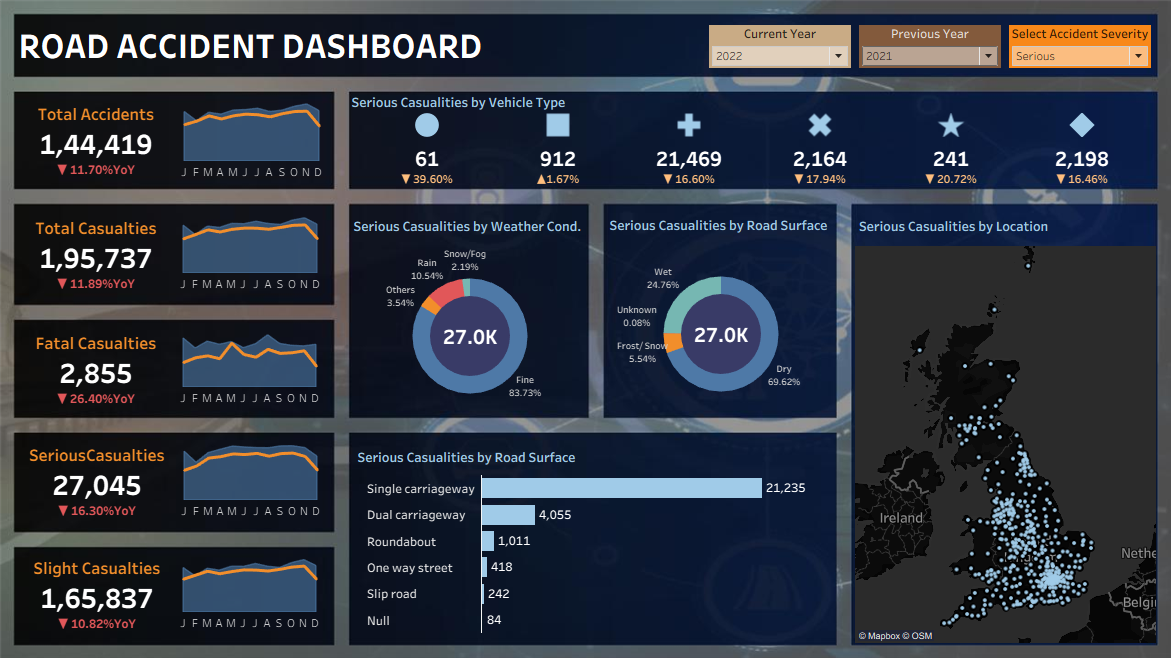

This screenshot's page, from the dashboard's own definition file:
{"tool":"tableau","page":{"name":"Dashboard 1","canvas":[1000,1000],"units":"permille","ordinal":0},"visuals":[{"type":"image","param":"Image/Background.jpg","box":[6.9,13.7,986.1,972.6]},{"type":"text","box":[82.2,36,411.3,92.5]},{"type":"parameter","param":"[Parameters].[Parameter 1]","box":[524.7,49.7,121.2,73.6]},{"type":"parameter","param":"[Parameters].[Current Year (copy)_0271580987891713]","box":[645.9,49.7,138.5,73.6]},{"type":"parameter","param":"[Parameters].[Parameter 2]","box":[784.4,49.7,129,73.6]},{"type":"text","box":[325.5,133.6,316,65.1]},{"type":"worksheet","title":"Total Accident","mark":"Automatic","box":[83.1,159.2,114.3,128.4]},{"type":"worksheet","title":"Accident Sparkline","mark":"Automatic","rows":["Calculation_1236402777866240 1","Calculation_1236402777866240"],"cols":["Accident Date"],"box":[197.4,159.2,113.4,128.4]},{"type":"worksheet","title":"Vehicle type Images","mark":"Shape","box":[331.6,176.4,581,54.8]},{"type":"worksheet","title":"Vehicle type KPI","mark":"Automatic","box":[331.6,231.2,581,65.1]},{"type":"text","box":[514.3,313.4,322.1,65.1]},{"type":"text","box":[327.3,316.8,180.1,59.9]},{"type":"worksheet","title":"By Location","mark":"Automatic","rows":["Latitude"],"cols":["Longitude"],"box":[693.5,323.6,226,640.4]},{"type":"worksheet","title":"Total Casualties","mark":"Automatic","box":[84,325.3,113.4,128.4]},{"type":"worksheet","title":"Total Casualties Sparkline ","mark":"Automatic","rows":["Calculation_1236402793963522 1","Calculation_1236402793963522"],"cols":["Accident Date"],"box":[197.4,325.3,112.6,128.4]},{"type":"worksheet","title":"Road Surface","mark":"Pie","rows":["Calculation_0959879000317953","Calculation_0959879000449027"],"box":[518.6,349.3,159.3,313.4]},{"type":"worksheet","title":"Weather Cond.","mark":"Pie","rows":["Calculation_0959879000317953","Calculation_0959879000449027"],"box":[331.6,352.7,165.4,313.4]},{"type":"worksheet","title":"Fatal Casualties","mark":"Automatic","box":[84,496.6,112.6,121.6]},{"type":"worksheet","title":"Fatal Sparkline","mark":"Automatic","rows":["Calculation_0753442484621312 1","Calculation_0753442484621312"],"cols":["Accident Date"],"box":[196.5,496.6,112.5,121.6]},{"type":"text","box":[329.9,652.4,322.1,65.1]},{"type":"worksheet","title":"Serious Casualties","mark":"Automatic","box":[84.9,659.2,112.5,125]},{"type":"worksheet","title":"Serious Sparkline","mark":"Automatic","rows":["CY Serious Casualties (copy)_0753442511335427","CY Fatal Casualties (copy)_0753442498224130"],"cols":["Accident Date"],"box":[197.4,659.2,112.6,125]},{"type":"worksheet","title":"Road Type","mark":"Automatic","rows":["Road_Type"],"cols":["Calculation_1236402793963522"],"box":[331.6,705.5,344.6,243.1]},{"type":"worksheet","title":"Slight Casualties","mark":"Automatic","box":[84.9,825.3,112.5,121.6]},{"type":"worksheet","title":"Slight Sparkline","mark":"Automatic","rows":["CY Slight Casualties (copy)_0753442519703559","CY Fatal Casualties (copy)_0753442515939334"],"cols":["Accident Date"],"box":[197.4,825.3,111.7,121.6]}]}

Visuals, with their boxes on the dashboard's canvas, which has no fixed pixel size, in thousandths of its width and height (x1, y1, x2, y2). These are canvas units, not pixel positions in the 1171x658 screenshot, which may show the page scaled, cropped or inside an application window:
image: Rect(7, 14, 993, 986)
text: Rect(82, 36, 494, 128)
parameter: Rect(525, 50, 646, 123)
parameter: Rect(646, 50, 784, 123)
parameter: Rect(784, 50, 913, 123)
text: Rect(326, 134, 642, 199)
"Total Accident" worksheet: Rect(83, 159, 197, 288)
"Accident Sparkline" worksheet: Rect(197, 159, 311, 288)
"Vehicle type Images" worksheet (Shape marks): Rect(332, 176, 913, 231)
"Vehicle type KPI" worksheet: Rect(332, 231, 913, 296)
text: Rect(514, 313, 836, 378)
text: Rect(327, 317, 507, 377)
"By Location" worksheet: Rect(694, 324, 920, 964)
"Total Casualties" worksheet: Rect(84, 325, 197, 454)
"Total Casualties Sparkline " worksheet: Rect(197, 325, 310, 454)
"Road Surface" worksheet (Pie marks): Rect(519, 349, 678, 663)
"Weather Cond." worksheet (Pie marks): Rect(332, 353, 497, 666)
"Fatal Casualties" worksheet: Rect(84, 497, 197, 618)
"Fatal Sparkline" worksheet: Rect(196, 497, 309, 618)
text: Rect(330, 652, 652, 718)
"Serious Casualties" worksheet: Rect(85, 659, 197, 784)
"Serious Sparkline" worksheet: Rect(197, 659, 310, 784)
"Road Type" worksheet: Rect(332, 706, 676, 949)
"Slight Casualties" worksheet: Rect(85, 825, 197, 947)
"Slight Sparkline" worksheet: Rect(197, 825, 309, 947)
